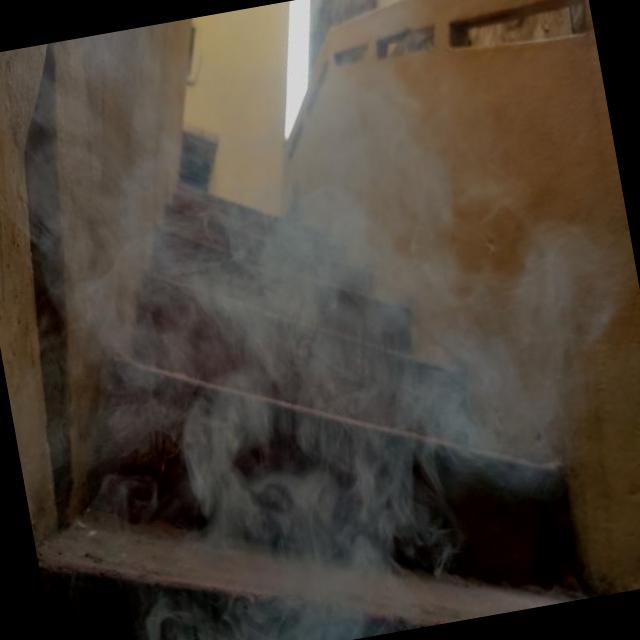smoke: (194, 94, 536, 499)
